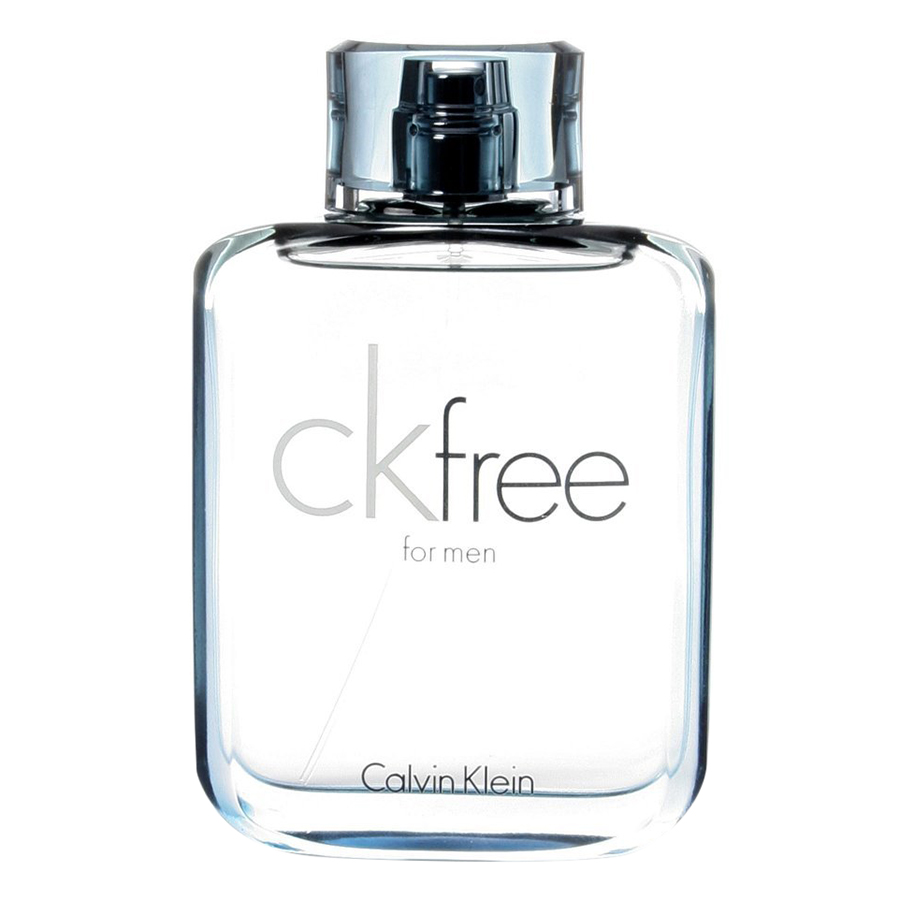Calvin Klein: (271, 339, 442, 527), (361, 753, 540, 804)
